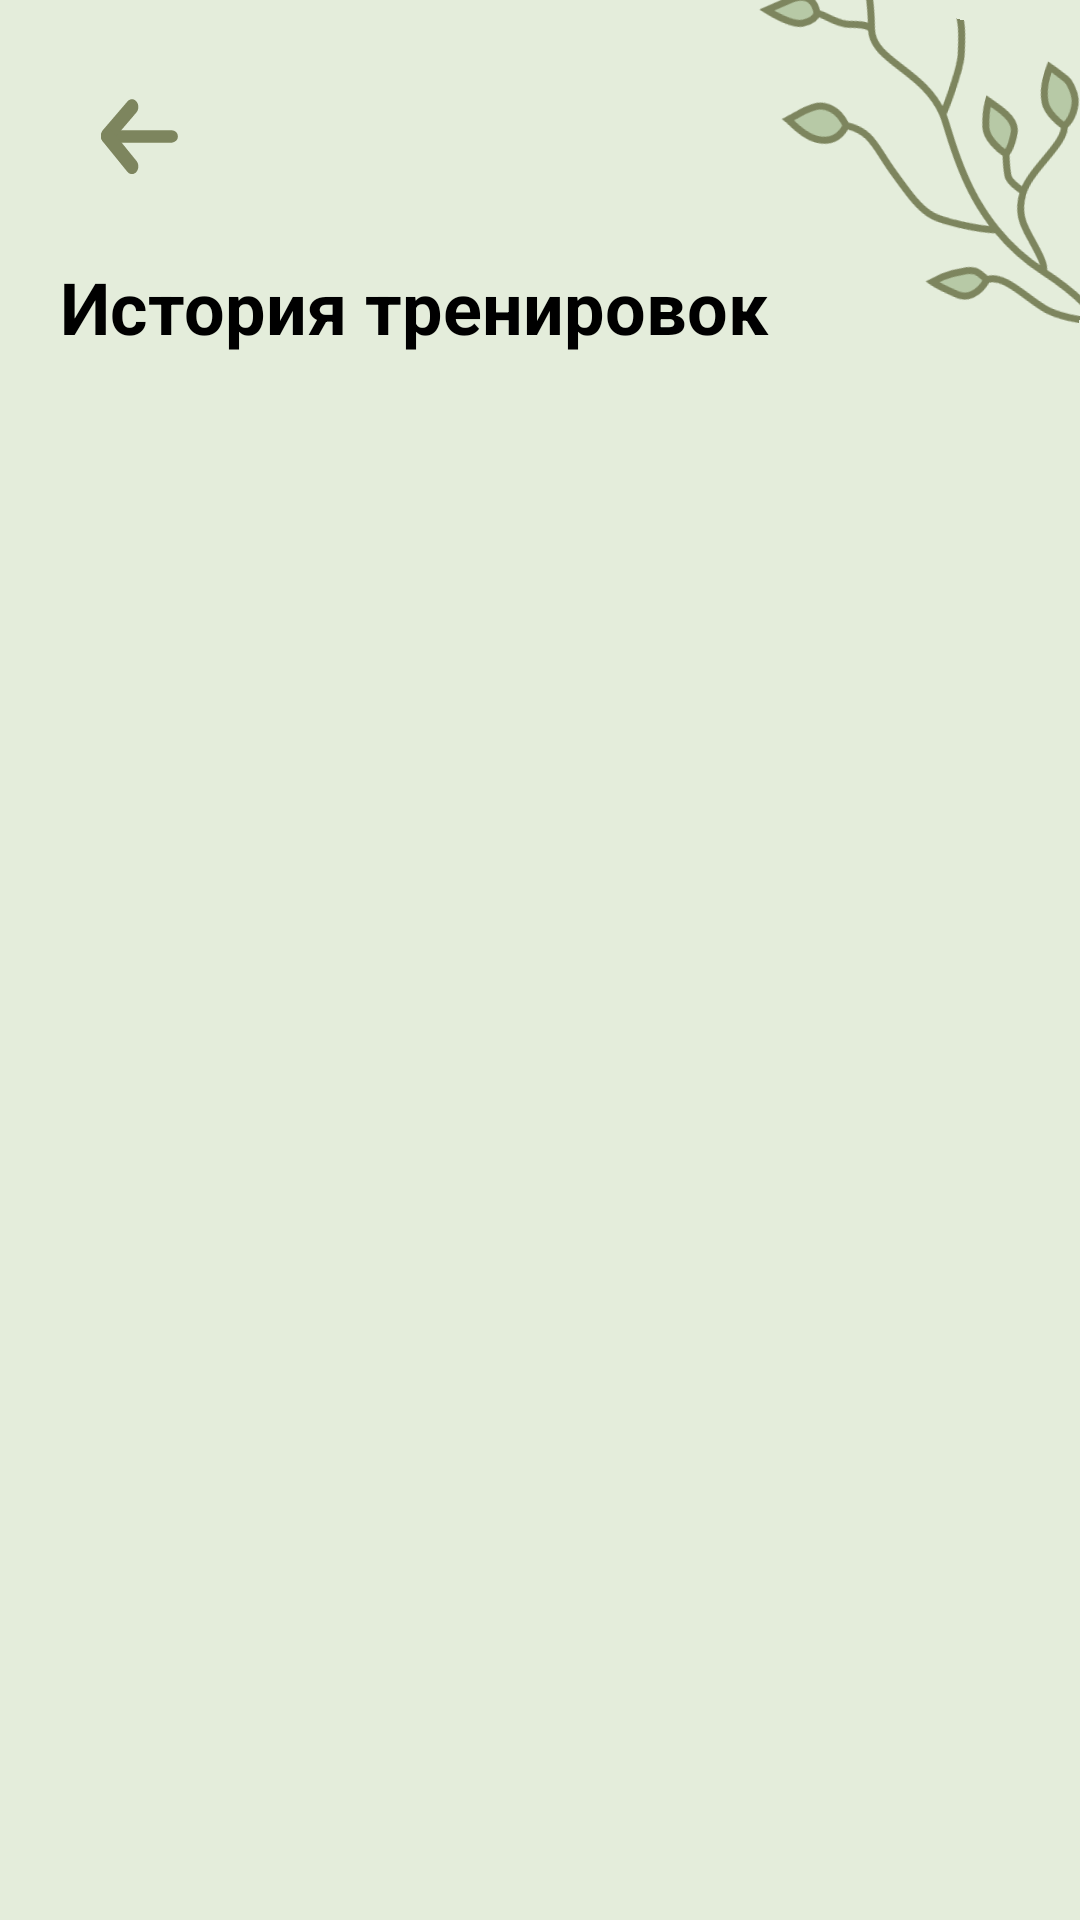

Point at icon controls on the screen. Image size 1080w x 1920h, points as point (x, y).
back: point (139, 136)
